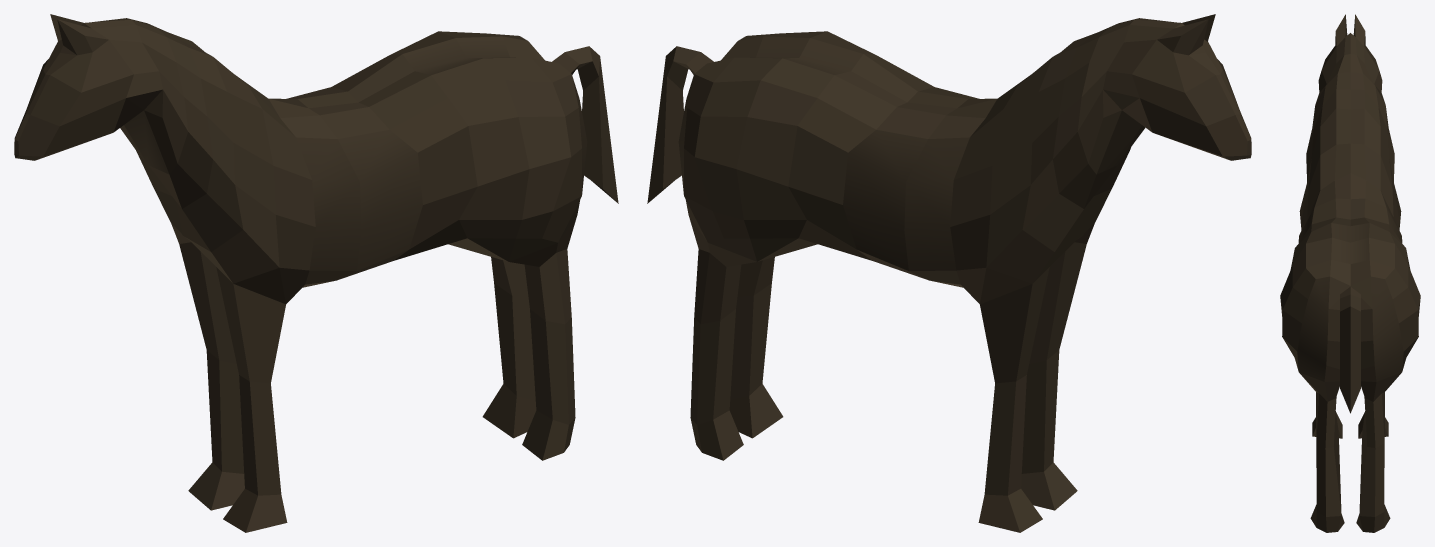
File: Pferd.FBX
3 renders of one model, left to right at view 1: azimuth 30°, elevation 25°; view 2: azimuth 150°, elevation 25°; view 3: azimuth 270°, elevation 25°, orthographic. The views are drawn at different scales.
Visible parts, largest first — view 1: Body; view 2: Body; view 3: Body.
Part boxes in pixels (left/top/right/bottom): Body: left=14, top=14, right=618, bottom=532; Body: left=647, top=14, right=1251, bottom=532; Body: left=1280, top=14, right=1420, bottom=532.
Bounding box in the file's own units: 73.39 × 62.48 × 22.23.
